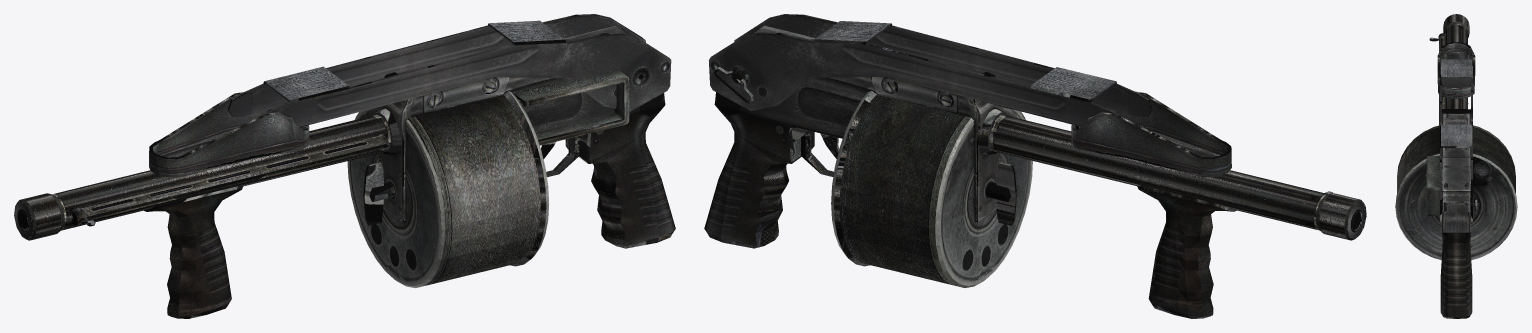
File: w_protecta.obj
3 views of the same model, side by side, from view 1: azimuth 30°, elevation 25°; view 2: azimuth 150°, elevation 25°; view 3: azimuth 270°, elevation 25° (orthographic). The views are drawn at different scales.
Visible parts, largest first — view 1: Protecta; view 2: Protecta; view 3: Protecta.
Boxes of the visible parts, x1,y1,x2,y2 form: Protecta: [14, 14, 675, 318]; Protecta: [704, 14, 1366, 318]; Protecta: [1395, 14, 1517, 318].
Size of the model in its own units: 8.92 by 3.11 by 2.38.
